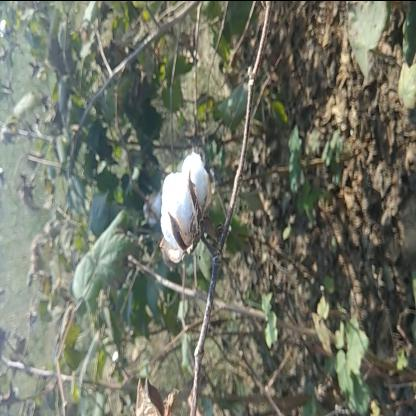cotton_ready: (148, 144, 238, 264)
